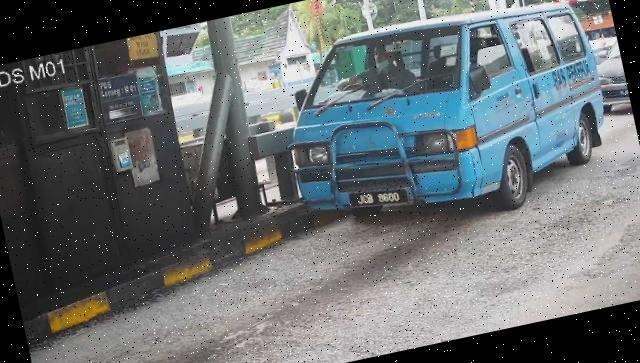License_Plate: (349, 182, 411, 217)
van: (264, 1, 624, 253)
